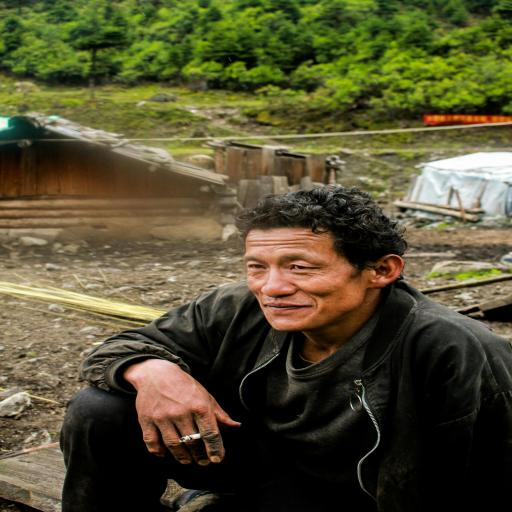terdeteksi pegang rokok: (122, 357, 248, 483)
